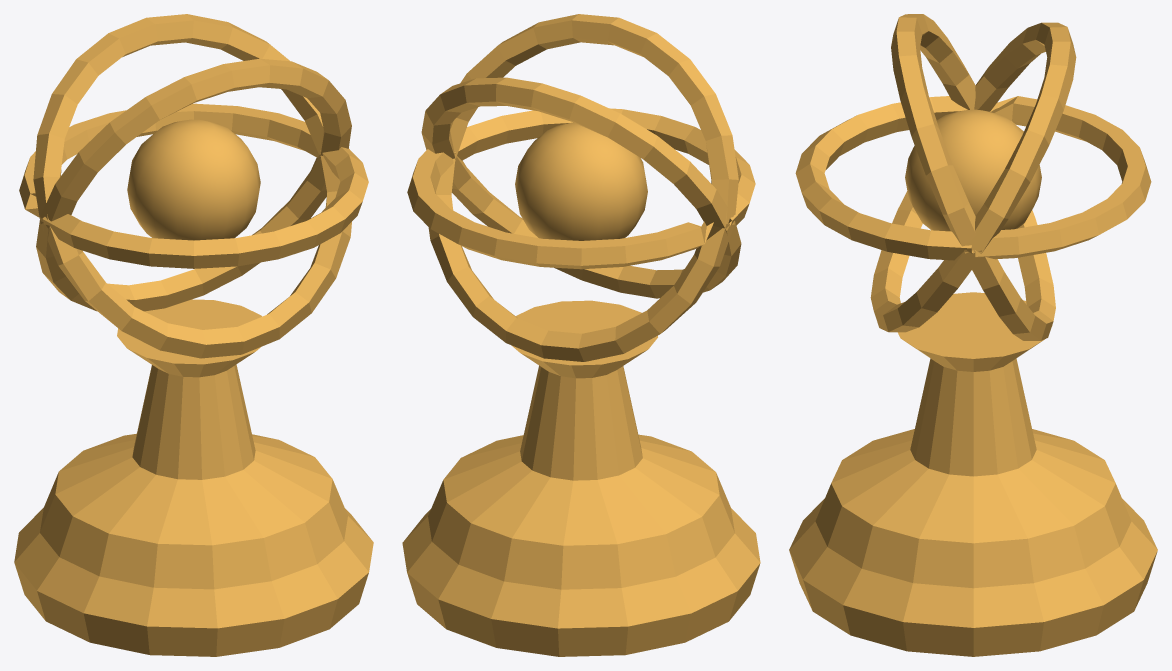
Rendered from trophy3.glb.
The picture shows the model from 3 angles, left to right: view 1: azimuth 30°, elevation 25°; view 2: azimuth 150°, elevation 25°; view 3: azimuth 270°, elevation 25°; orthographic projection. The views are drawn at different scales.
Parts seen in each view (by area): view 1: Trophy3; view 2: Trophy3; view 3: Trophy3.
Boxes of the visible parts, x1,y1,x2,y2 form: Trophy3: (14,14,373,656); Trophy3: (402,14,760,656); Trophy3: (789,14,1157,656).
Bounding box in the file's own units: 0.7 × 1.16 × 0.7.
